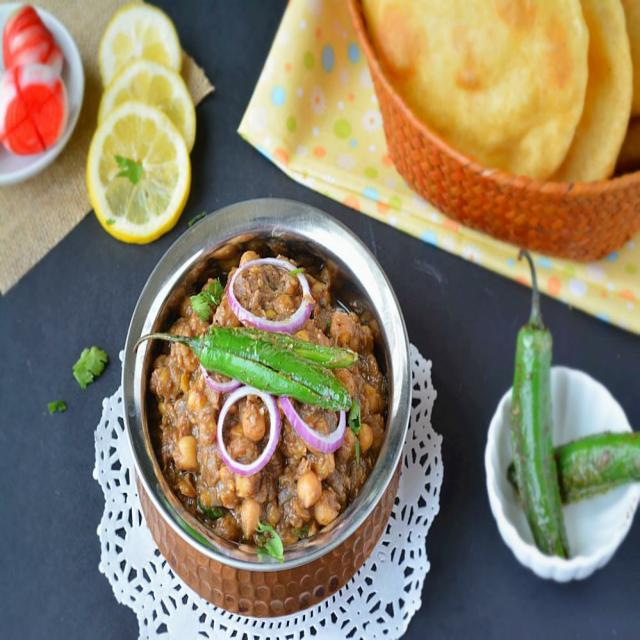Bhatura: (362, 0, 587, 183), (544, 0, 632, 183)
Chole: (152, 245, 387, 550)
